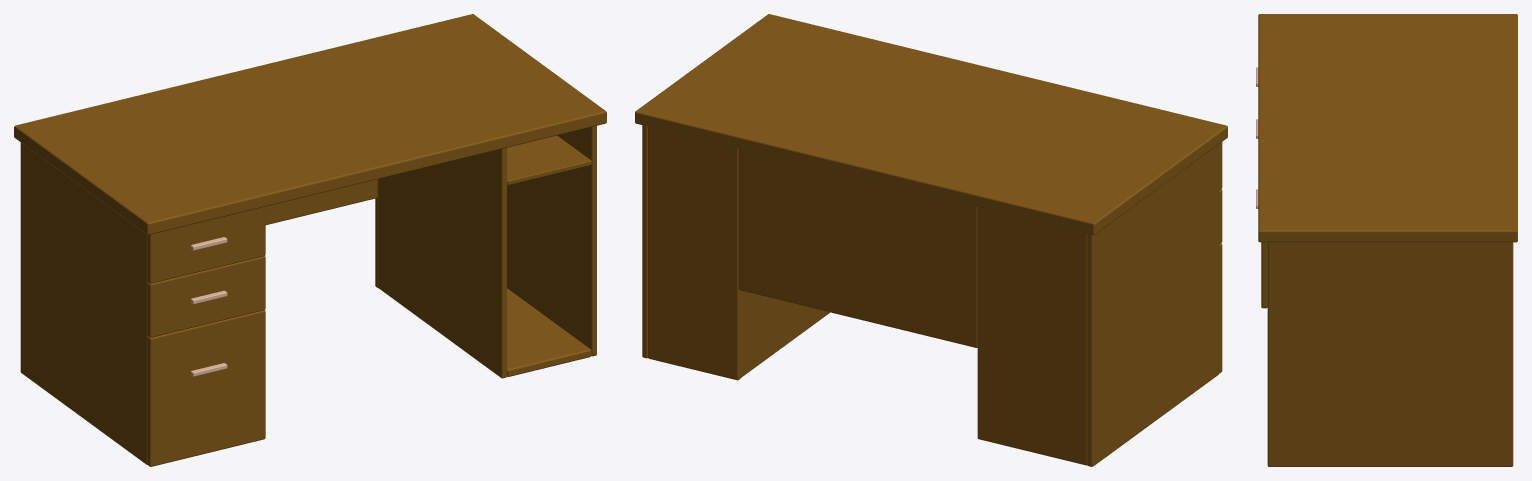
Rendered from desk.glb.
3 views of the same model, side by side, from view 1: azimuth 30°, elevation 25°; view 2: azimuth 150°, elevation 25°; view 3: azimuth 270°, elevation 25° (orthographic). The views are drawn at different scales.
Visible parts, largest first — view 1: board_back, handle.003; view 2: board_back; view 3: board_back.
Part boxes in pixels (box(x1,y1,x2,y2)): board_back: box(14, 14, 606, 466); handle.003: box(190, 237, 227, 376); board_back: box(635, 14, 1227, 466); board_back: box(1258, 14, 1517, 466).
Size of the model in its own units: 24.15 by 12.39 by 12.3.
